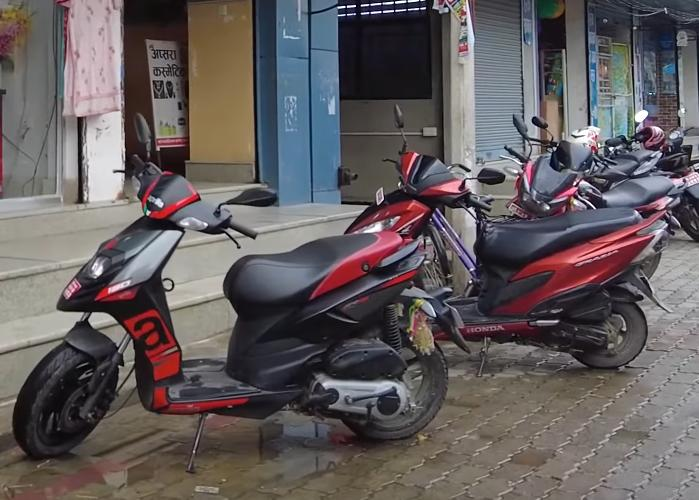scooter: (11, 110, 449, 474), (344, 96, 671, 367)
